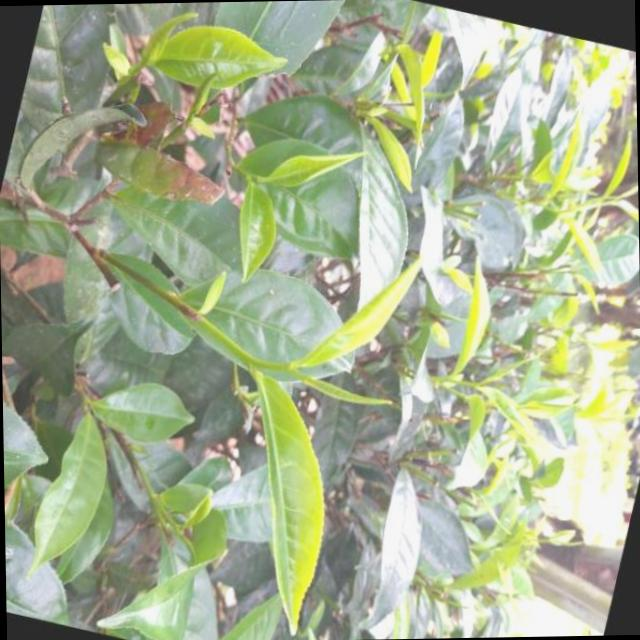Stem: (229, 344, 254, 366), (130, 60, 141, 73), (461, 381, 475, 387), (237, 168, 247, 175)
